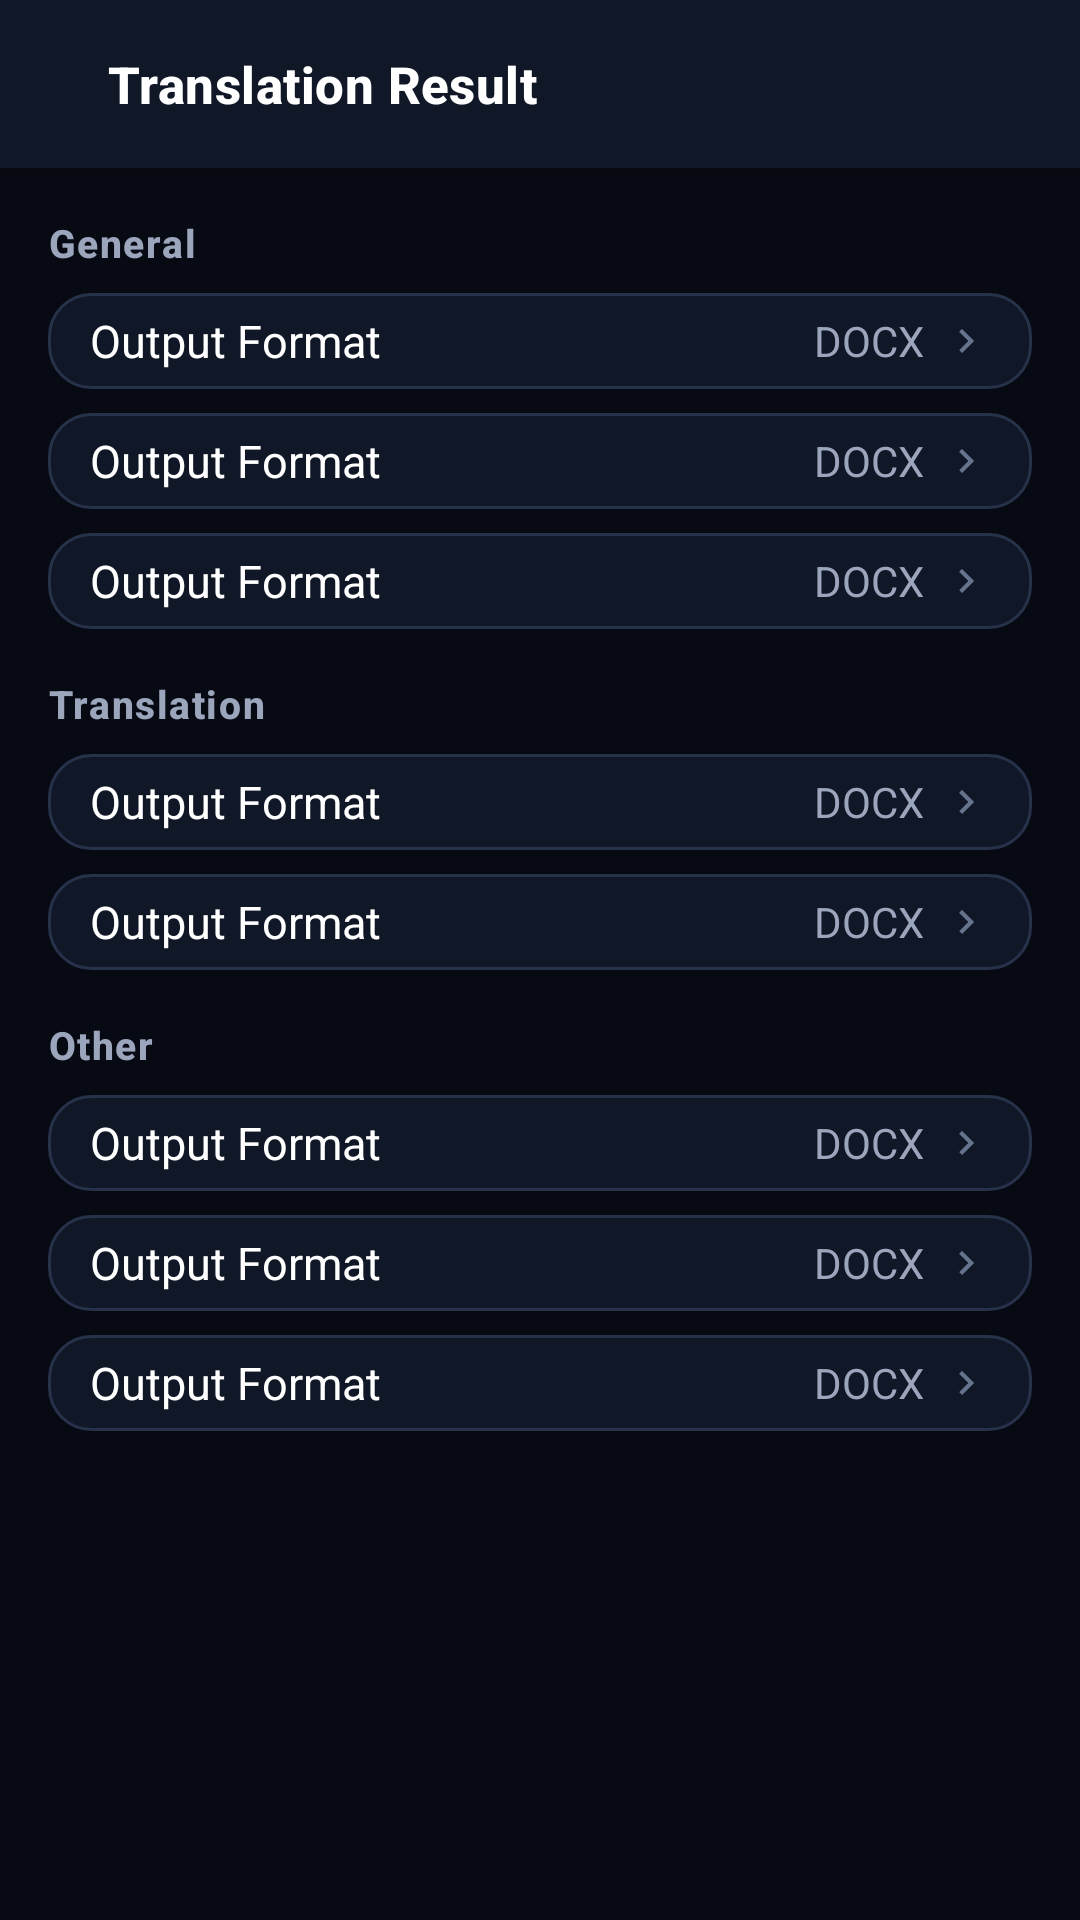

Screen size 1080 × 1920. Icon name, then its center in pixels as point (x, y):
chevron: point (966, 341), point (966, 461), point (966, 581), point (966, 802), point (966, 922), point (966, 1143), point (966, 1263), point (966, 1383)
